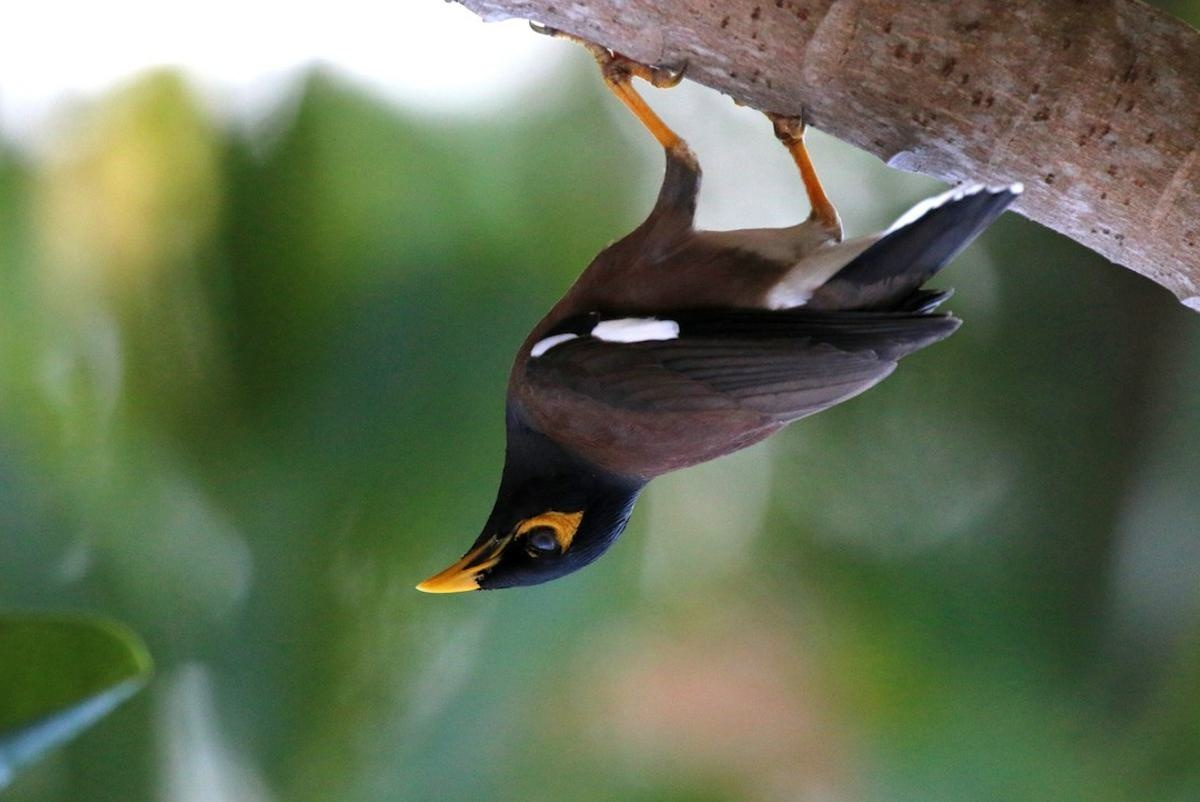myna: (416, 55, 1100, 613)
